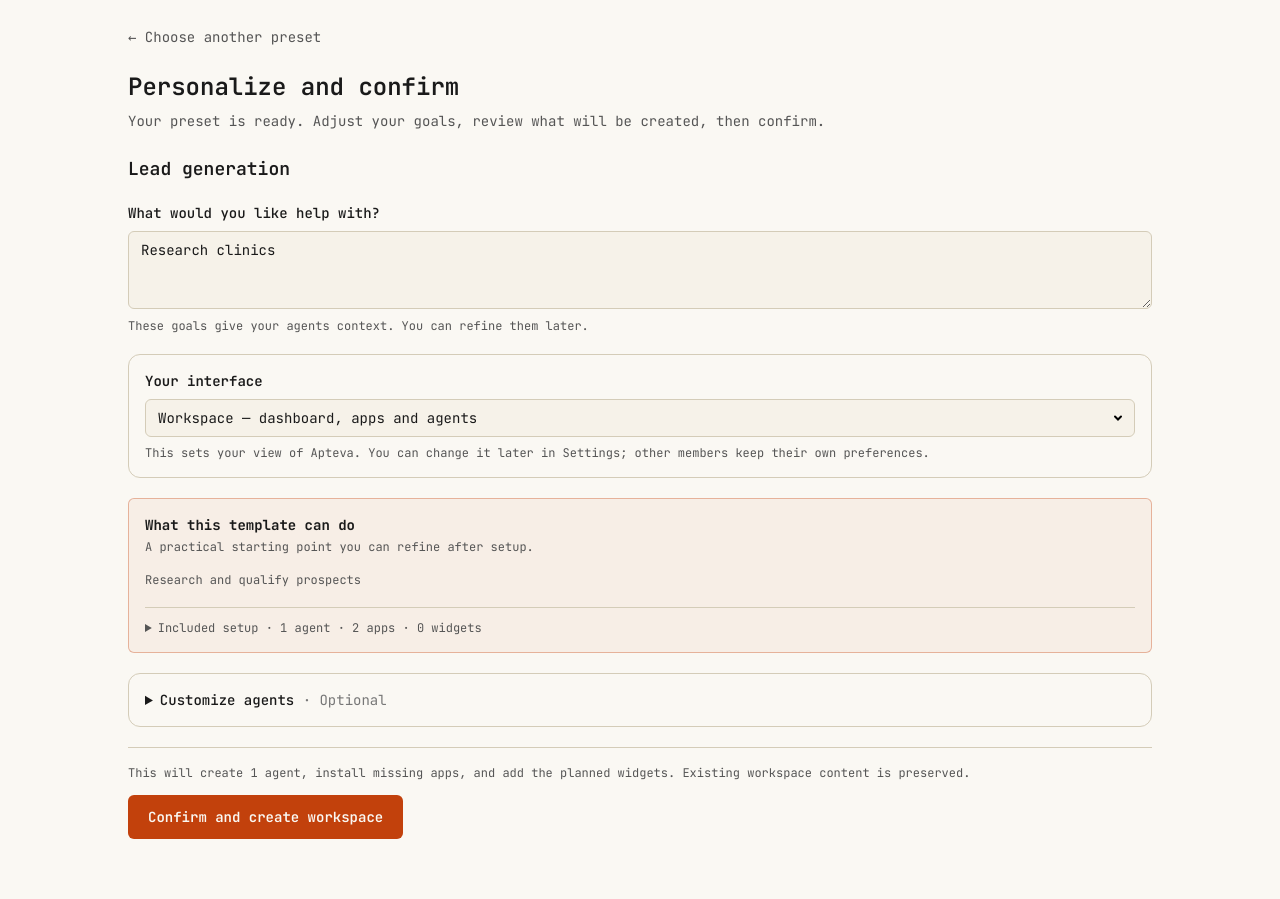
reload restores manual edits without applying them
The image size is (1280, 899).
Click the heading "Customize agents · Optional" at {"x": 273, "y": 700}, box [160, 690, 387, 708]
(page scrolled)
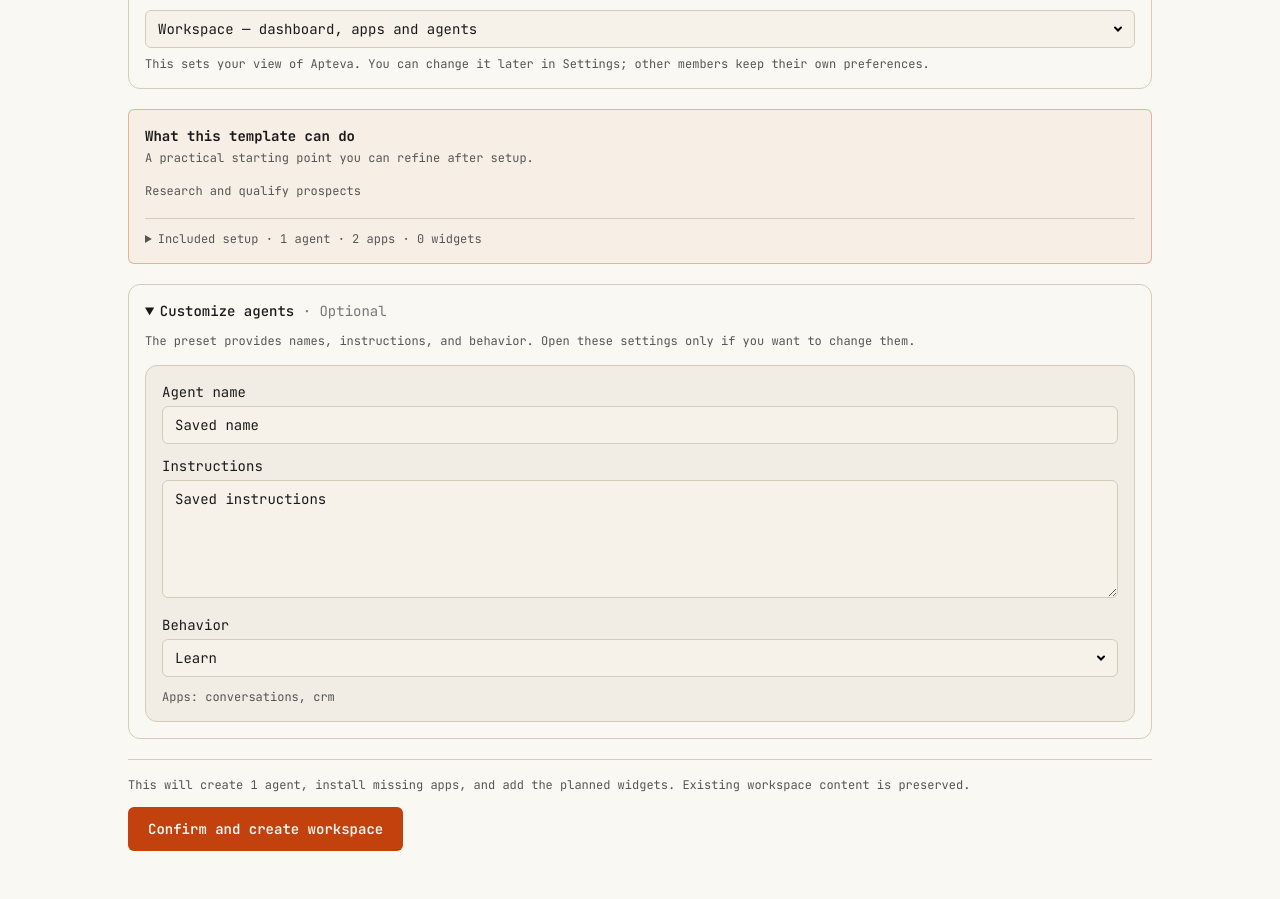
Check: the field labelled "Agent name" holds "Saved name", box [162, 406, 1118, 444]
Check: the text box labelled "Instructions" holds "Saved instructions", box [162, 480, 1118, 598]
